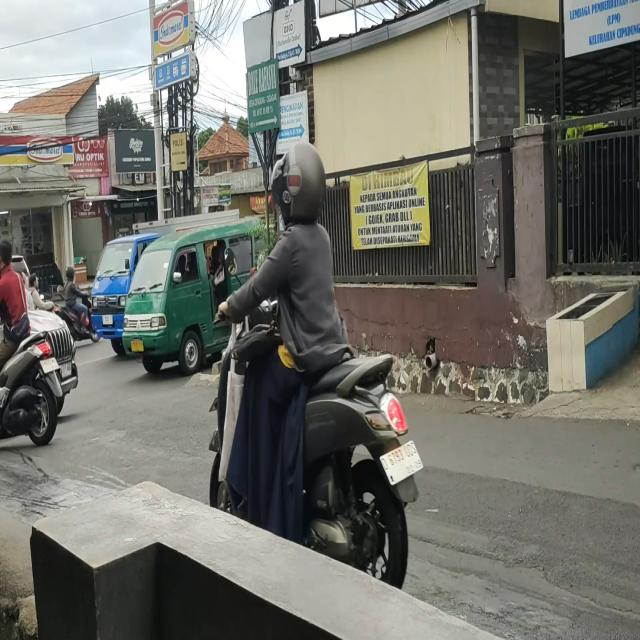helmet: (274, 144, 324, 220), (64, 266, 75, 284)
no-helmet: (1, 235, 12, 274), (29, 274, 39, 292)
